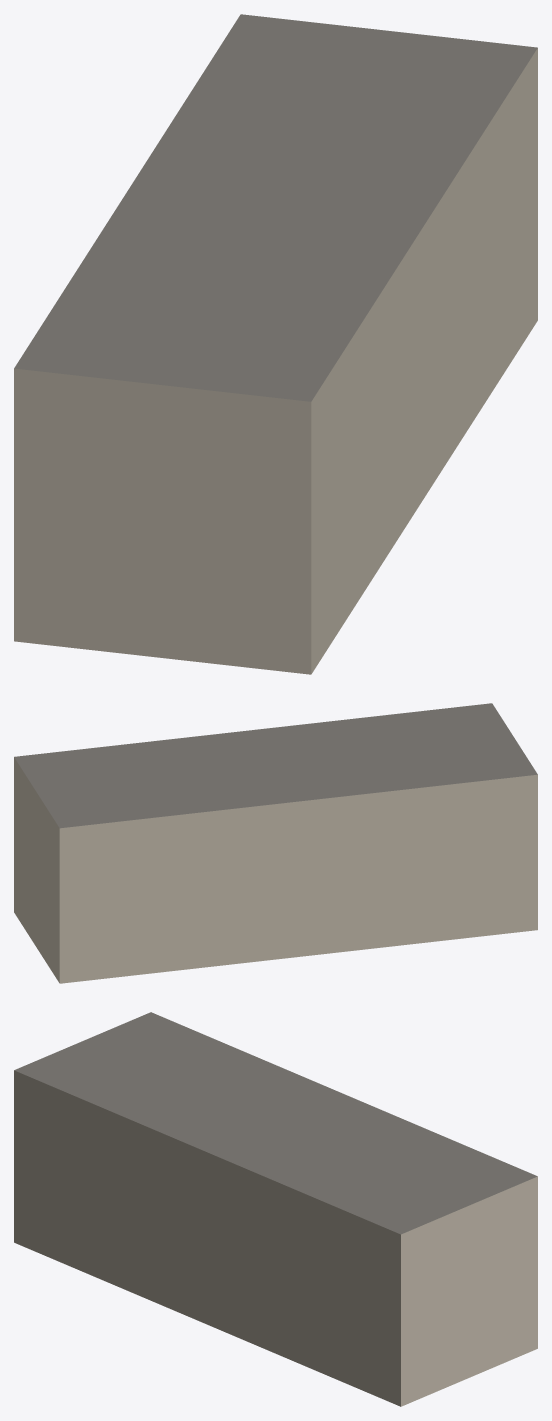
3 renders of one model, top to bottom at view 1: azimuth 30°, elevation 25°; view 2: azimuth 150°, elevation 25°; view 3: azimuth 270°, elevation 25°, orthographic. The views are drawn at different scales.
Parts seen in each view (by area): view 1: HP-w859488703; view 2: HP-w859488703; view 3: HP-w859488703.
Boxes of the visible parts, left/top/right/bottom form: HP-w859488703: left=14, top=14, right=537, bottom=674; HP-w859488703: left=14, top=703, right=537, bottom=983; HP-w859488703: left=14, top=1012, right=537, bottom=1406.
Bounding box in the file's own units: 49.83 × 18 × 49.6.
